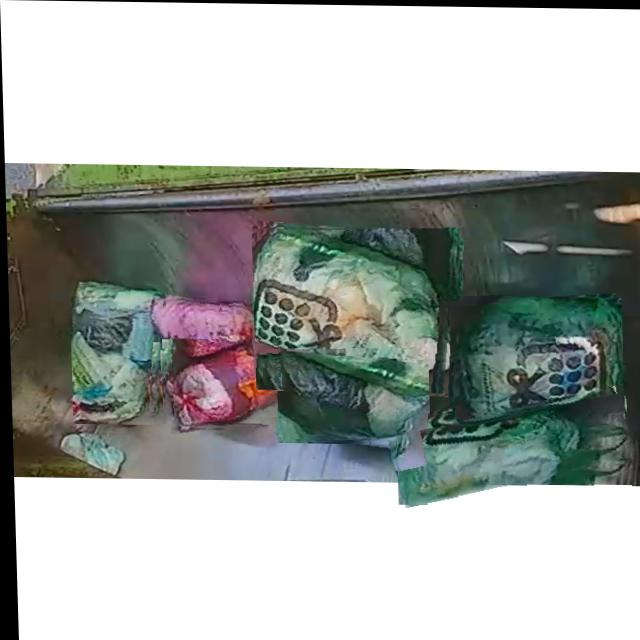general_trashbag: (251, 227, 447, 391), (395, 412, 628, 503), (452, 296, 620, 416), (277, 349, 427, 439), (69, 285, 160, 423)
other_trashbag: (162, 340, 274, 428), (157, 300, 252, 360)
